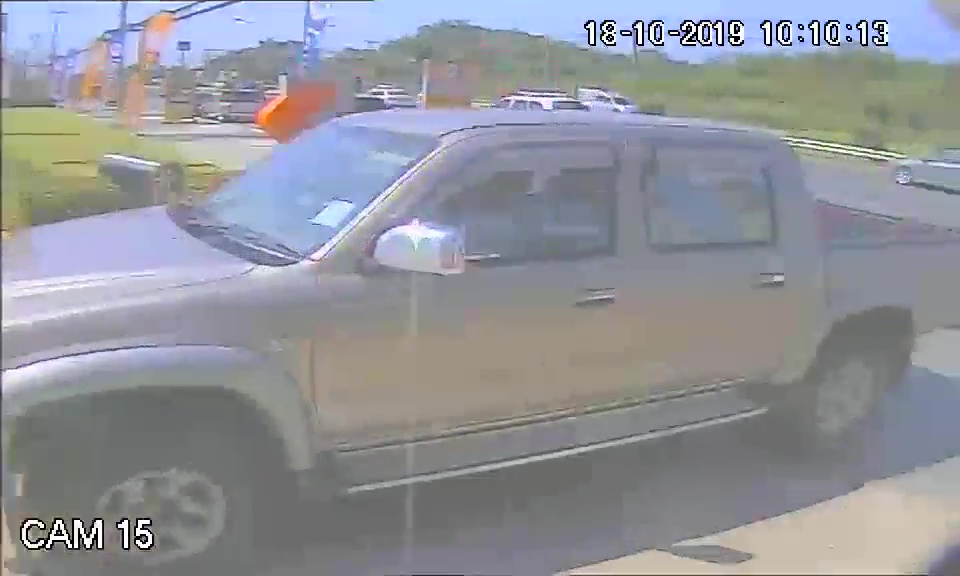pickup: (1, 107, 960, 504)
